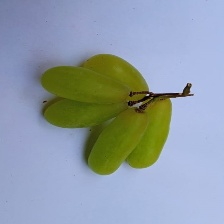grapes: (19, 37, 174, 179)
